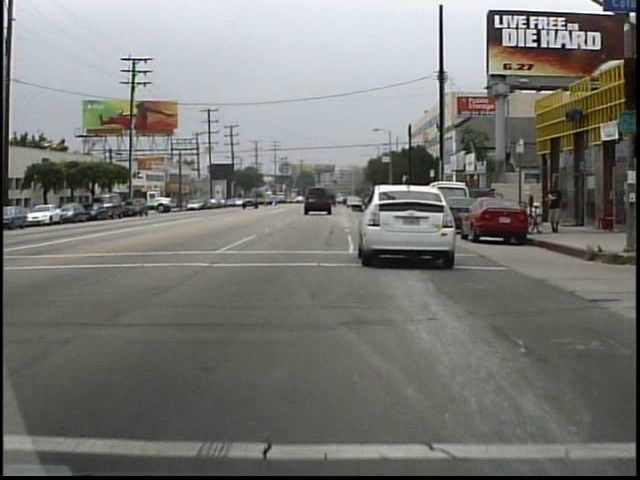person: (544, 176, 567, 237)
